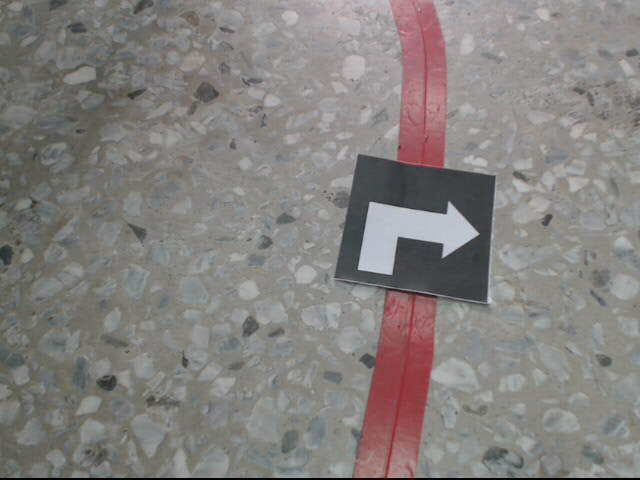right: (333, 154, 499, 303)
